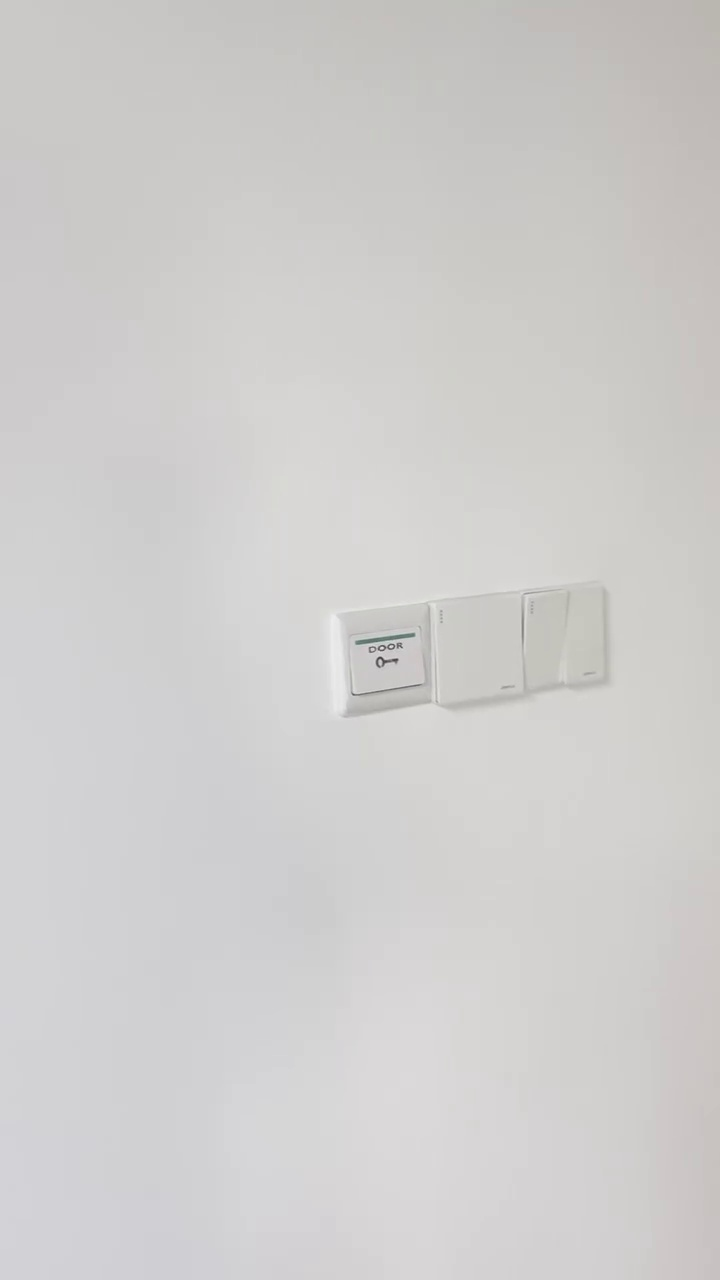button: (428, 591, 524, 707), (524, 577, 610, 695)
